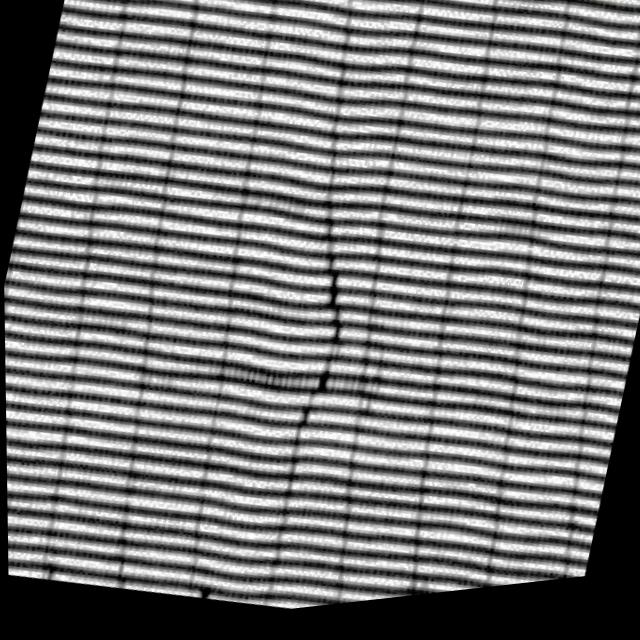Stitch: (240, 144, 438, 494)
